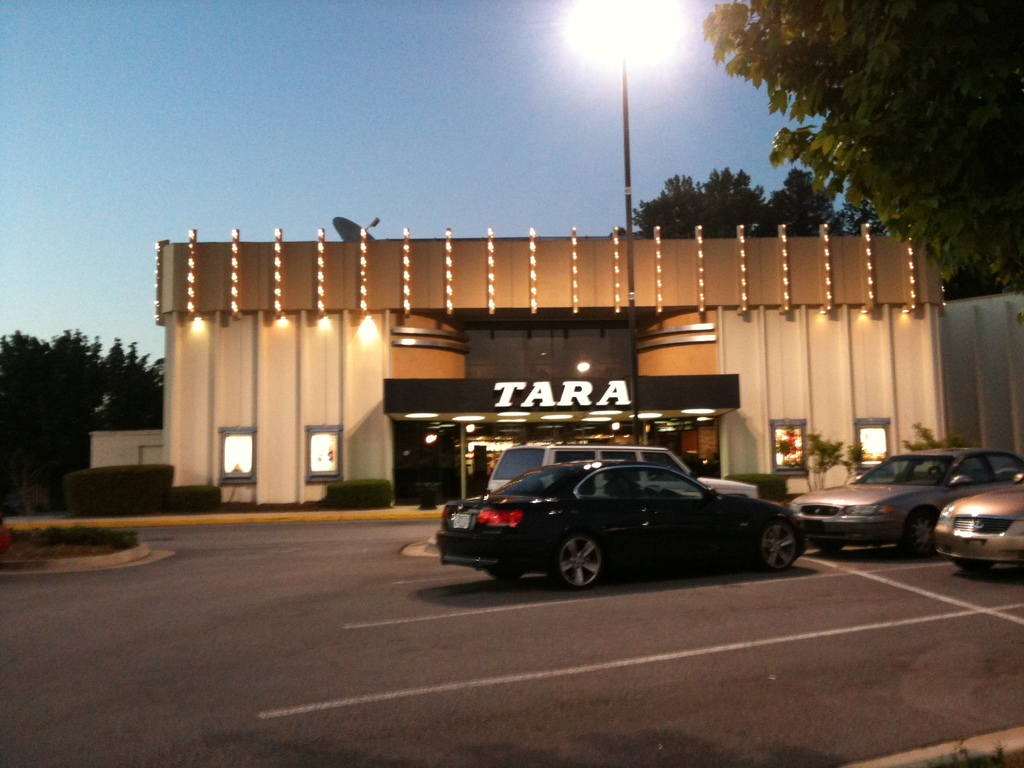Car: (435, 454, 807, 583), (785, 447, 1023, 562), (490, 442, 754, 497), (931, 480, 1023, 581)
